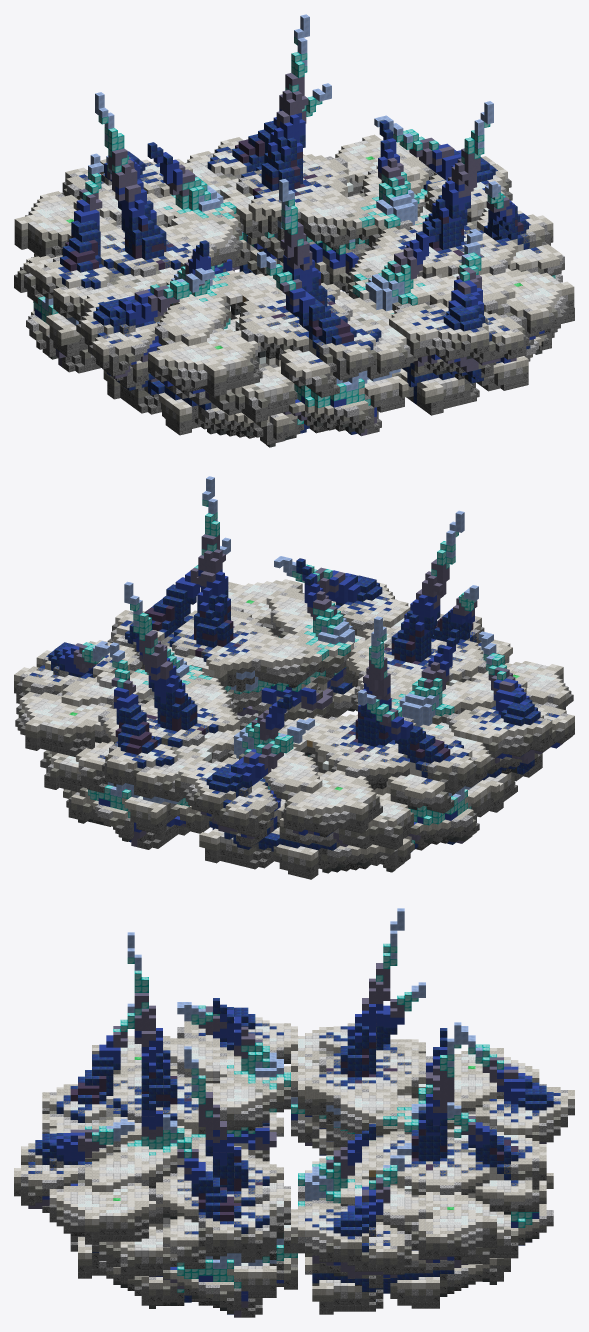
Rendered from mid.glb.
3 views of the same model, one above another, from view 1: azimuth 30°, elevation 25°; view 2: azimuth 150°, elevation 25°; view 3: azimuth 270°, elevation 25° (orthographic). The views are drawn at different scales.
Parts seen in each view (by area): view 1: minecraft:andesite; view 2: minecraft:andesite; view 3: minecraft:andesite.
Part boxes in pixels (<box>): minecraft:andesite: <box>14,14,574,447</box>; minecraft:andesite: <box>14,476,574,879</box>; minecraft:andesite: <box>14,908,574,1317</box>.
Bounding box in the file's own units: 79 × 38 × 79.
Materials: 24 (24 with a texture image).
